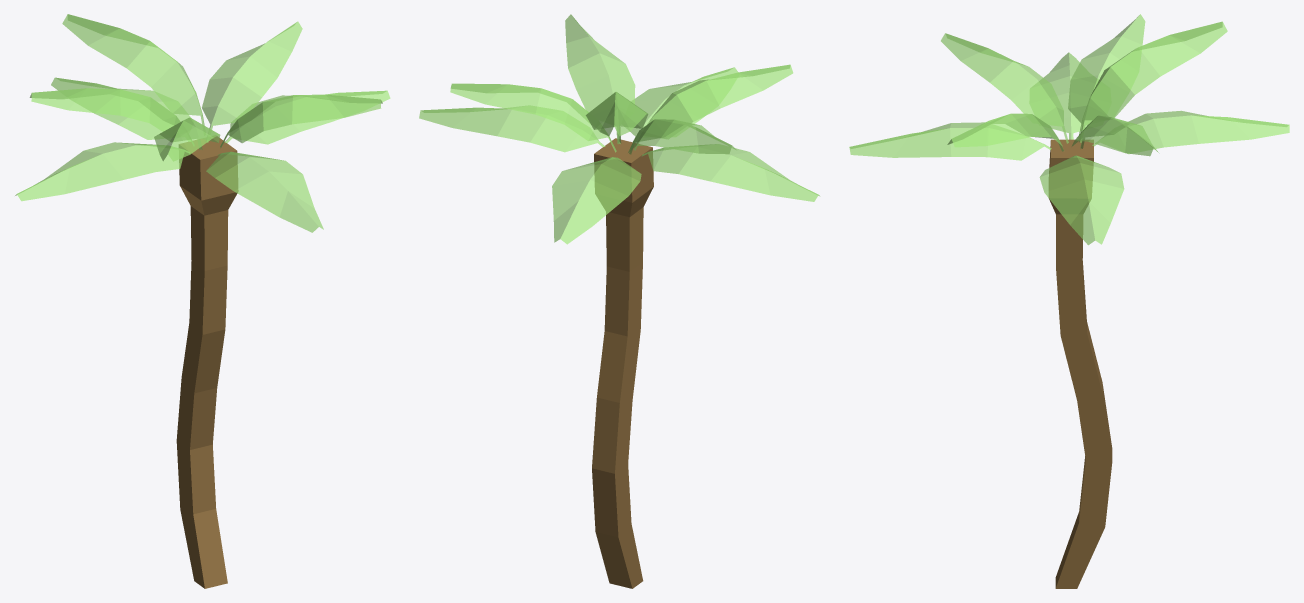
File: PalmTree.fbx
3 views of the same model, side by side, from view 1: azimuth 30°, elevation 25°; view 2: azimuth 150°, elevation 25°; view 3: azimuth 270°, elevation 25° (orthographic).
Parts seen in each view (by area): view 1: Cube, Plane.009, Plane.003, Plane.001, Plane.005, Plane.004, Plane.006, Plane.008, Plane.002, Plane.007; view 2: Cube, Plane.001, Plane.004, Plane.002, Plane.007, Plane.006, Plane.005, Plane.003, Plane.008, Plane.009; view 3: Cube, Plane.009, Plane.004, Plane.008, Plane.002, Plane.003, Plane.007, Plane.001, Plane.006, Plane.005.
Part boxes in pixels (x1=…): Cube: x1=176, y1=136, x2=238, y2=588; Plane.009: x1=62, y1=14, x2=204, y2=125; Plane.003: x1=206, y1=151, x2=323, y2=232; Plane.001: x1=15, y1=142, x2=189, y2=201; Plane.005: x1=202, y1=21, x2=302, y2=142; Plane.004: x1=224, y1=90, x2=390, y2=144; Plane.006: x1=220, y1=94, x2=382, y2=148; Plane.008: x1=29, y1=88, x2=193, y2=145; Plane.002: x1=51, y1=77, x2=190, y2=141; Plane.007: x1=154, y1=117, x2=220, y2=161; Cube: x1=592, y1=138, x2=653, y2=588; Plane.001: x1=641, y1=144, x2=820, y2=201; Plane.004: x1=419, y1=106, x2=605, y2=152; Plane.002: x1=552, y1=157, x2=641, y2=244; Plane.007: x1=634, y1=64, x2=793, y2=150; Plane.006: x1=565, y1=14, x2=635, y2=144; Plane.005: x1=450, y1=83, x2=616, y2=152; Plane.003: x1=626, y1=67, x2=737, y2=141; Plane.008: x1=628, y1=119, x2=736, y2=154; Plane.009: x1=585, y1=92, x2=648, y2=143; Cube: x1=1049, y1=139, x2=1112, y2=588; Plane.009: x1=1079, y1=21, x2=1227, y2=134; Plane.004: x1=1039, y1=155, x2=1124, y2=245; Plane.008: x1=1068, y1=14, x2=1145, y2=142; Plane.002: x1=1092, y1=110, x2=1289, y2=154; Plane.003: x1=849, y1=122, x2=1051, y2=160; Plane.007: x1=941, y1=33, x2=1068, y2=143; Plane.001: x1=1030, y1=52, x2=1098, y2=139; Plane.006: x1=947, y1=113, x2=1064, y2=151; Plane.005: x1=1071, y1=115, x2=1159, y2=156.
Size of the model in its own units: 278 by 365 by 275.
